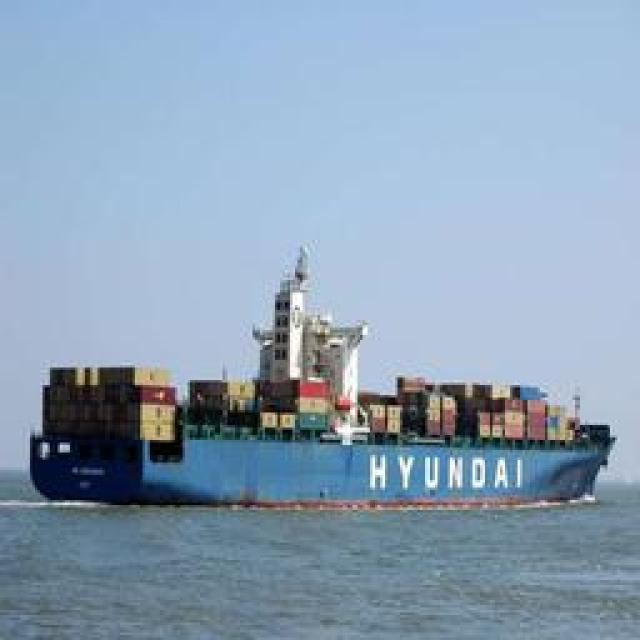CIV_Ship: (30, 235, 620, 513)
